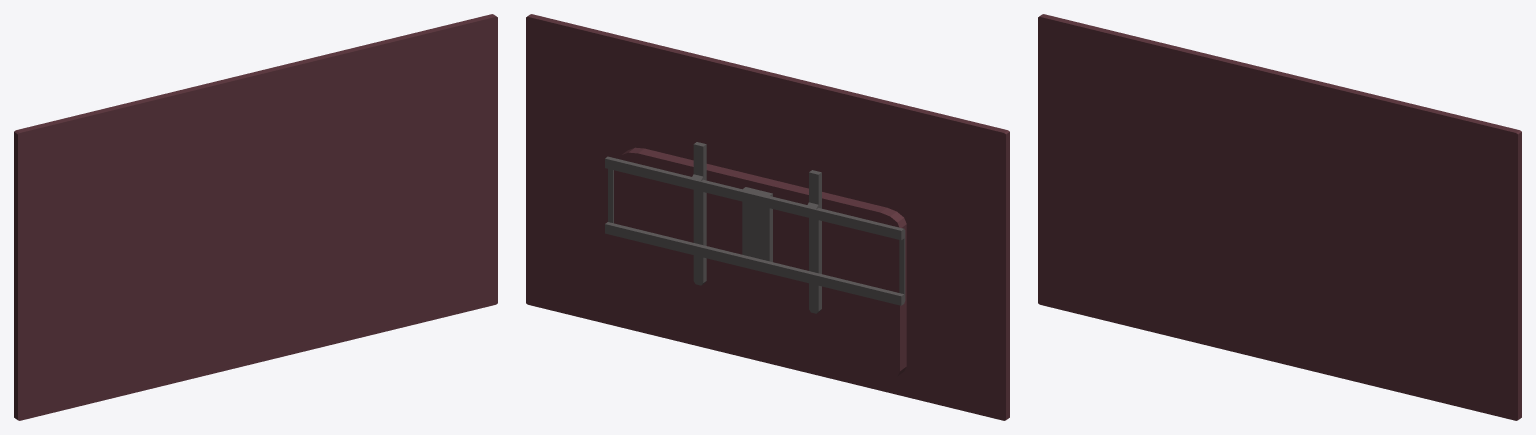
The model's file is television-modern-mount.fbx.
3 views of the same model, side by side, from view 1: azimuth 30°, elevation 25°; view 2: azimuth 150°, elevation 25°; view 3: azimuth 330°, elevation 25° (orthographic).
Visible parts, largest first — view 1: television-modern-mount; view 2: television-modern-mount; view 3: television-modern-mount.
Boxes of the visible parts, box(x1,y1,x2,y2) form: television-modern-mount: box(14, 14, 497, 420); television-modern-mount: box(526, 14, 1009, 420); television-modern-mount: box(1038, 14, 1521, 420).
Bounding box in the file's own units: 1.44 × 0.826 × 0.0871.
